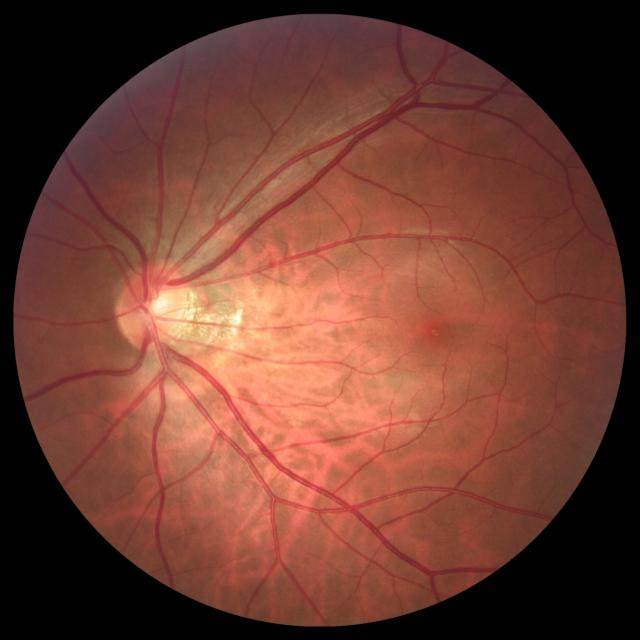OC: (142, 289, 171, 320)
OD: (116, 264, 190, 349)
